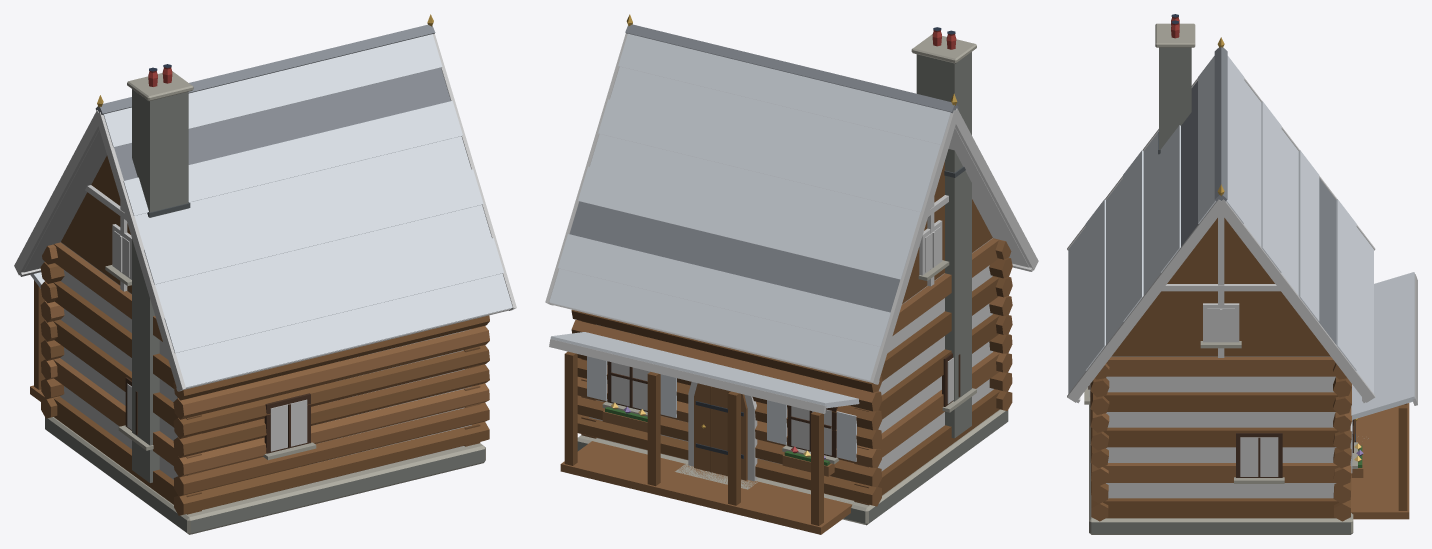
File: LogLodge.obj
3 views of the same model, side by side, from view 1: azimuth 30°, elevation 25°; view 2: azimuth 150°, elevation 25°; view 3: azimuth 270°, elevation 25° (orthographic). The views are drawn at different scales.
Size of the model in its own units: 13.98 by 17.02 by 13.8.
